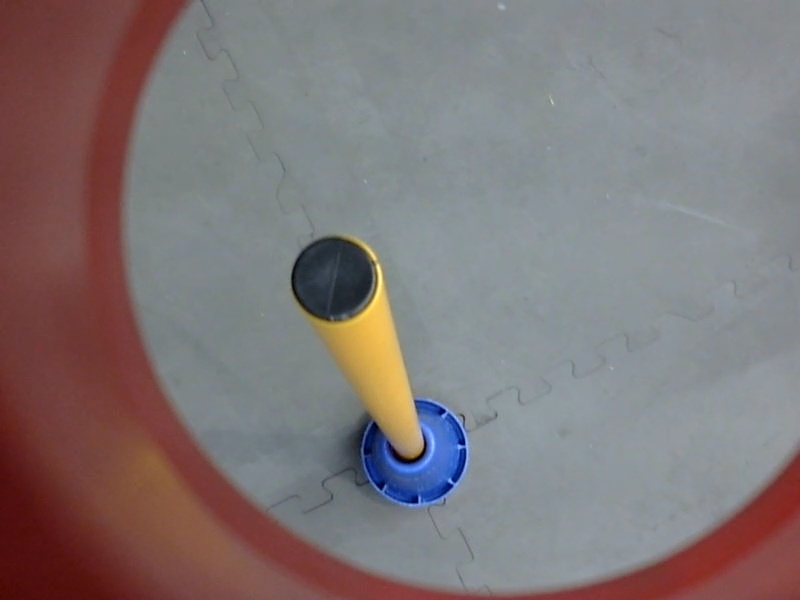tip: (282, 226, 391, 331)
